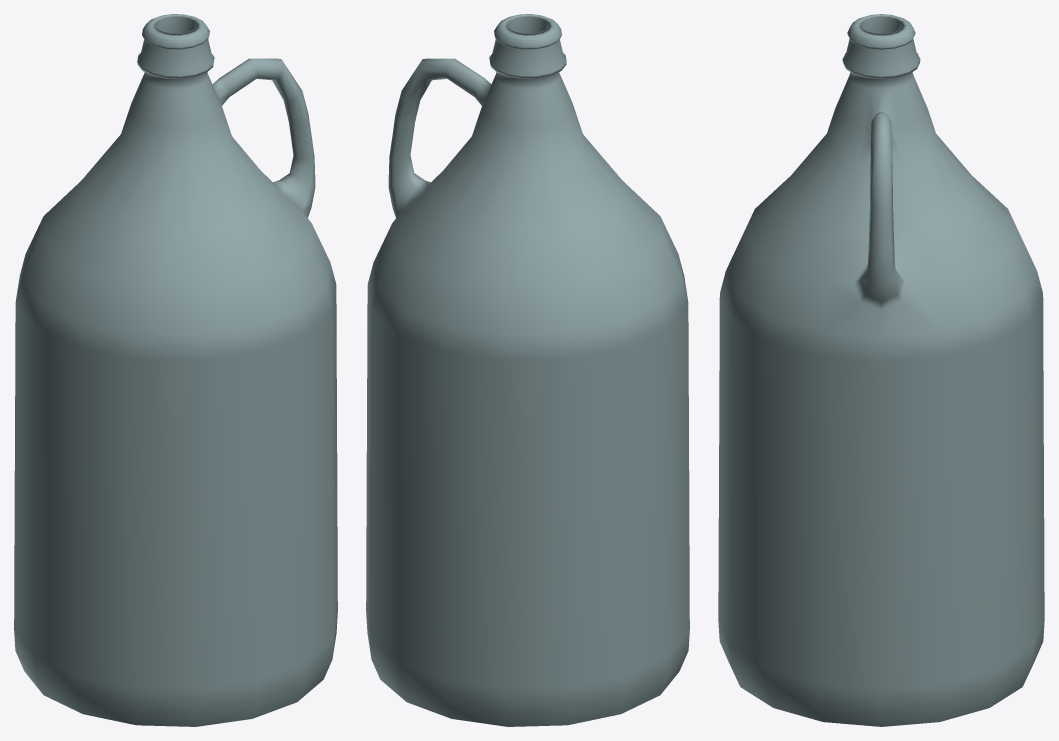
The model's file is SM_Molotov2.fbx.
3 views of the same model, side by side, from view 1: azimuth 30°, elevation 25°; view 2: azimuth 150°, elevation 25°; view 3: azimuth 270°, elevation 25° (orthographic).
Visible parts, largest first — view 1: SM_Bottle1; view 2: SM_Bottle1; view 3: SM_Bottle1.
Part boxes in pixels (left/top/right/bottom): SM_Bottle1: left=14, top=14, right=337, bottom=726; SM_Bottle1: left=366, top=14, right=689, bottom=726; SM_Bottle1: left=718, top=14, right=1044, bottom=726.
Bounding box in the file's own units: 15.06 × 32.44 × 15.06.
